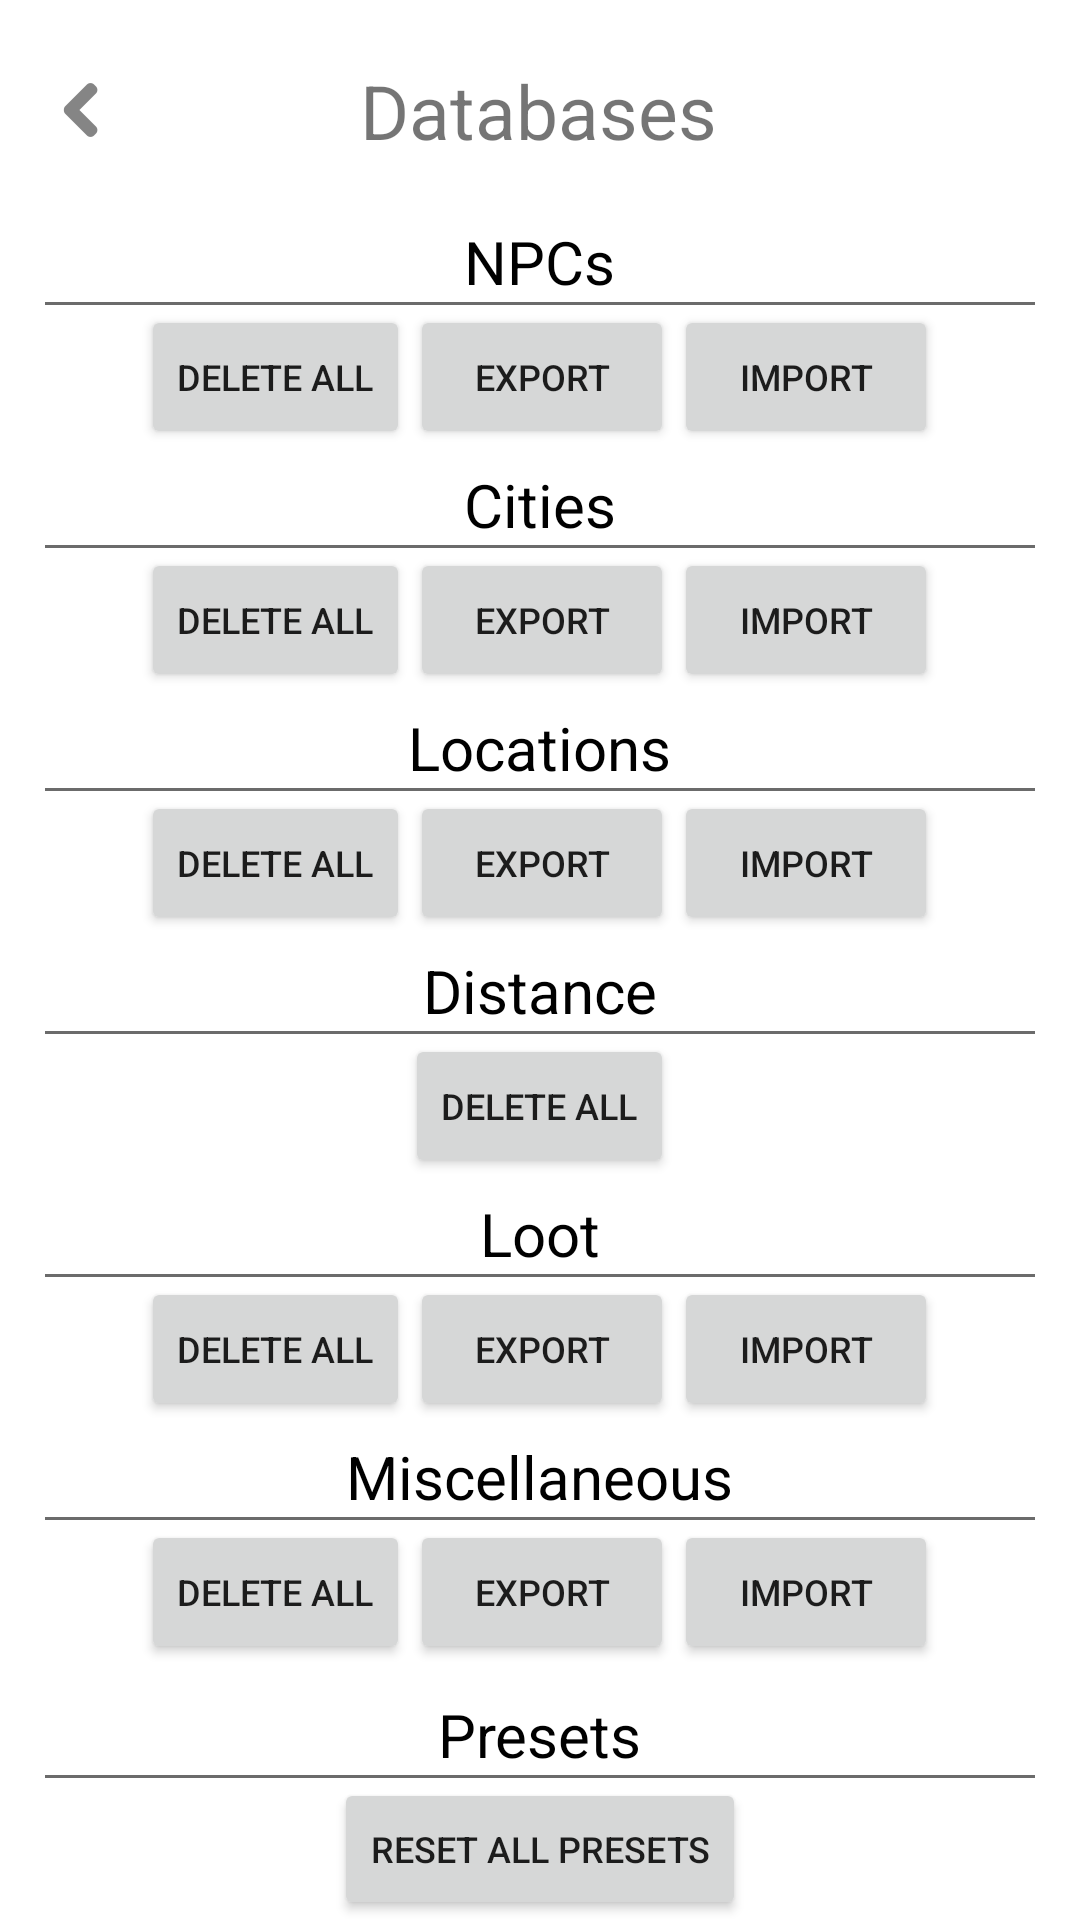

Where icons sit on this 1080px x 1920px app screen, as (x1, y1, x2, y2):
backarrow: (64, 83, 98, 137)
